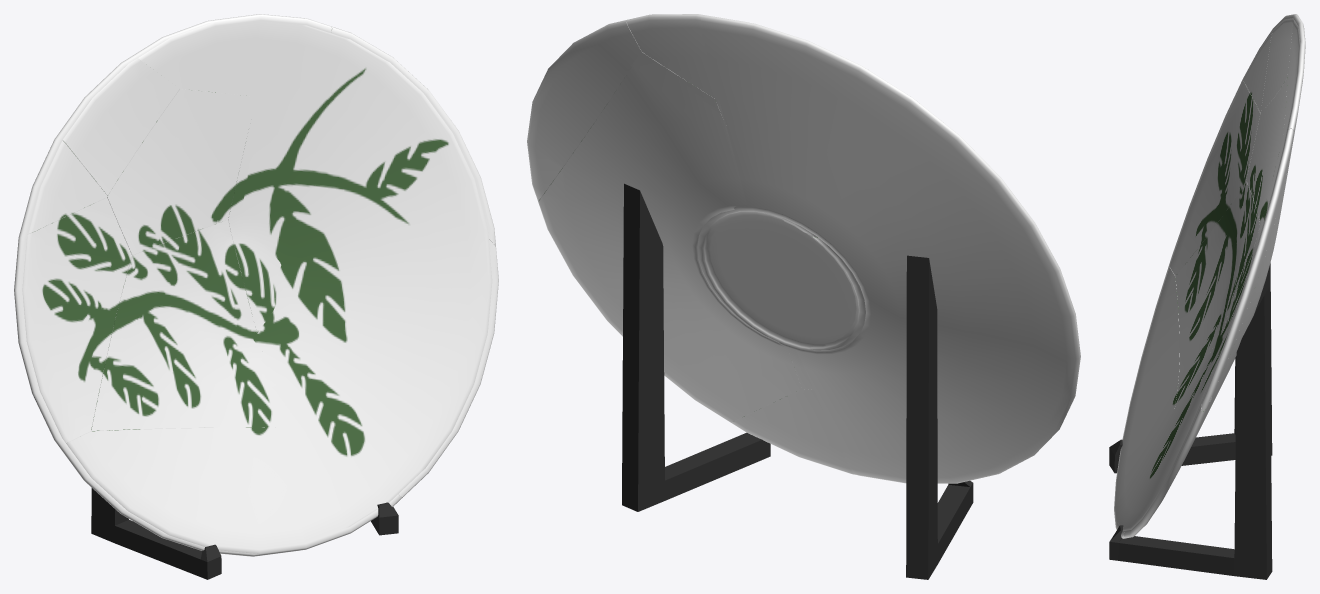
Rendered from Plate (3).fbx.
The picture shows the model from 3 angles, left to right: view 1: azimuth 30°, elevation 25°; view 2: azimuth 150°, elevation 25°; view 3: azimuth 270°, elevation 25°; orthographic projection. The views are drawn at different scales.
Parts seen in each view (by area): view 1: Plate, Plate_cell.005, Plate_cell.006, Plate_cell.002, Plate_cell.004, Plate_cell, Plate_cell.001, Plate_cell.009, Cube, Plate_cell.008, Plate_cell.003; view 2: Plate, Plate_cell.009, Cube, Plate_cell.003, Plate_cell.006, Plate_cell.001, Plate_cell.005; view 3: Cube, Plate_cell.005, Plate_cell.006, Plate, Plate_cell.002, Plate_cell.009, Plate_cell.003, Plate_cell.004, Plate_cell, Plate_cell.001, Plate_cell.008.
Part boxes in pixels (bbox=[...]): Plate: bbox=[14, 20, 492, 556]; Plate_cell.005: bbox=[91, 220, 277, 430]; Plate_cell.006: bbox=[66, 427, 402, 555]; Plate_cell.002: bbox=[22, 198, 131, 442]; Plate_cell.004: bbox=[107, 89, 253, 255]; Plate_cell: bbox=[62, 58, 179, 195]; Plate_cell.001: bbox=[138, 14, 331, 96]; Plate_cell.009: bbox=[228, 112, 498, 496]; Cube: bbox=[91, 488, 398, 579]; Plate_cell.008: bbox=[28, 140, 107, 233]; Plate_cell.003: bbox=[331, 26, 495, 246]; Plate: bbox=[607, 17, 1080, 483]; Plate_cell.009: bbox=[538, 52, 801, 422]; Cube: bbox=[622, 183, 973, 579]; Plate_cell.003: bbox=[527, 20, 641, 200]; Plate_cell.006: bbox=[731, 389, 856, 474]; Plate_cell.001: bbox=[626, 14, 749, 98]; Plate_cell.005: bbox=[788, 233, 865, 389]; Cube: bbox=[1109, 263, 1272, 579]; Plate_cell.005: bbox=[1174, 181, 1259, 409]; Plate_cell.006: bbox=[1114, 266, 1179, 538]; Plate: bbox=[1116, 14, 1305, 531]; Plate_cell.002: bbox=[1169, 80, 1260, 275]; Plate_cell.009: bbox=[1123, 145, 1292, 538]; Plate_cell.003: bbox=[1201, 129, 1293, 410]; Plate_cell.004: bbox=[1246, 78, 1287, 225]; Plate_cell: bbox=[1261, 18, 1293, 111]; Plate_cell.001: bbox=[1283, 20, 1304, 145]; Plate_cell.008: bbox=[1243, 32, 1272, 112].
Bounding box in the file's own units: 36.07 × 33.83 × 12.74.
Materials: 2 (1 with a texture image).
